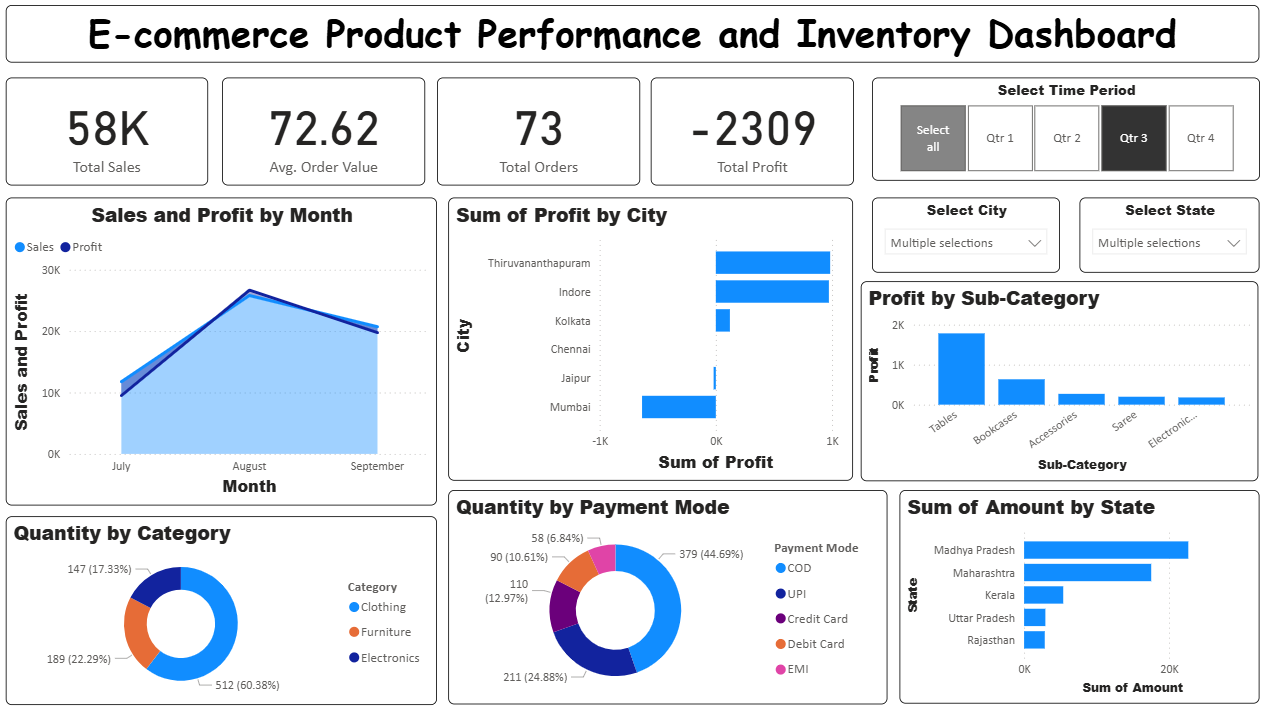

Layout of this report page (visuals, bound fields, positions):
{"tool":"powerbi","page":{"name":"Page 1","canvas":[1280,720],"ordinal":0},"visuals":[{"type":"textbox","box":[13.8,10,1253.8,57.5],"z":0},{"type":"stackedAreaChart","fields":{"Category":["Orders.Order Date.Variation.Date Hierarchy.Month"],"Y":["Sum(Details.Amount)","Sum(Details.Profit)"]},"box":[14.3,202.4,431,308.3],"z":1000},{"type":"columnChart","fields":{"Category":["Details.Sub-Category"],"Y":["Sum(Details.Profit)"]},"box":[869.1,285.7,397.6,200],"z":2000},{"type":"donutChart","fields":{"Category":["Details.Category"],"Y":["Sum(Details.Quantity)"]},"box":[13.8,521.2,431.2,188.8],"z":3000},{"type":"donutChart","fields":{"Category":["Details.PaymentMode"],"Y":["Sum(Details.Quantity)"]},"box":[456,495.2,439.3,214.3],"z":4000},{"type":"card","fields":{"Values":["Count(Details.Order ID)"]},"box":[445.2,82.1,203.6,108.3],"z":5000},{"type":"card","fields":{"Values":["Sum(Details.Amount)"]},"box":[14.3,82.1,202.4,108.3],"z":6000},{"type":"card","fields":{"Values":["Sum(Details.Profit)"]},"box":[658.3,82.1,203.6,108.3],"z":7000},{"type":"card","fields":{"Values":["Avg(Details.AOV)"]},"box":[229.8,82.1,203.6,108.3],"z":8000},{"type":"barChart","fields":{"Category":["Orders.State"],"Y":["Sum(Details.Amount)"]},"box":[907.5,495,360,213.8],"z":9000},{"type":"barChart","fields":{"Category":["Orders.City"],"Y":["Sum(Details.Profit)"]},"box":[456,202.4,404.8,283.3],"z":10000},{"type":"slicer","title":"Select Time Period","fields":{"Values":["Orders.Order Date.Variation.Date Hierarchy.Quarter"]},"box":[879.8,82.1,388.1,103.6],"z":11000},{"type":"slicer","title":"Select State","fields":{"Values":["Orders.State"]},"box":[1086.9,202.4,179.8,75],"z":12000},{"type":"slicer","title":"Select City","fields":{"Values":["Orders.City"]},"box":[879.8,202.4,188.1,75],"z":13000}]}

Visuals, with their boxes in screenshot pixels (x1, y1, x2, y2), scaled from the page's 1280x720 canvas onto the 1265x711 screenshot:
textbox: crop(14, 10, 1253, 67)
stackedAreaChart - Orders.Order Date.Variation.Date Hierarchy.Month x Sum(Details.Amount): crop(14, 200, 440, 504)
columnChart - Details.Sub-Category x Sum(Details.Profit): crop(859, 282, 1252, 480)
donutChart - Details.Category x Sum(Details.Quantity): crop(14, 515, 440, 701)
donutChart - Details.PaymentMode x Sum(Details.Quantity): crop(451, 489, 885, 701)
card - Count(Details.Order ID): crop(440, 81, 641, 188)
card - Sum(Details.Amount): crop(14, 81, 214, 188)
card - Sum(Details.Profit): crop(651, 81, 852, 188)
card - Avg(Details.AOV): crop(227, 81, 428, 188)
barChart - Orders.State x Sum(Details.Amount): crop(897, 489, 1253, 700)
barChart - Orders.City x Sum(Details.Profit): crop(451, 200, 851, 480)
"Select Time Period" slicer: crop(869, 81, 1253, 183)
"Select State" slicer: crop(1074, 200, 1252, 274)
"Select City" slicer: crop(869, 200, 1055, 274)
